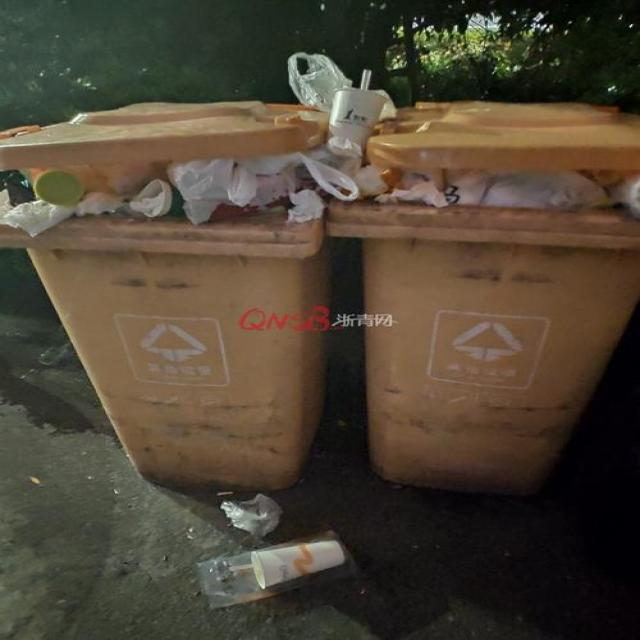garbage: (194, 491, 350, 611)
overflow: (1, 102, 328, 489), (326, 100, 639, 495)
